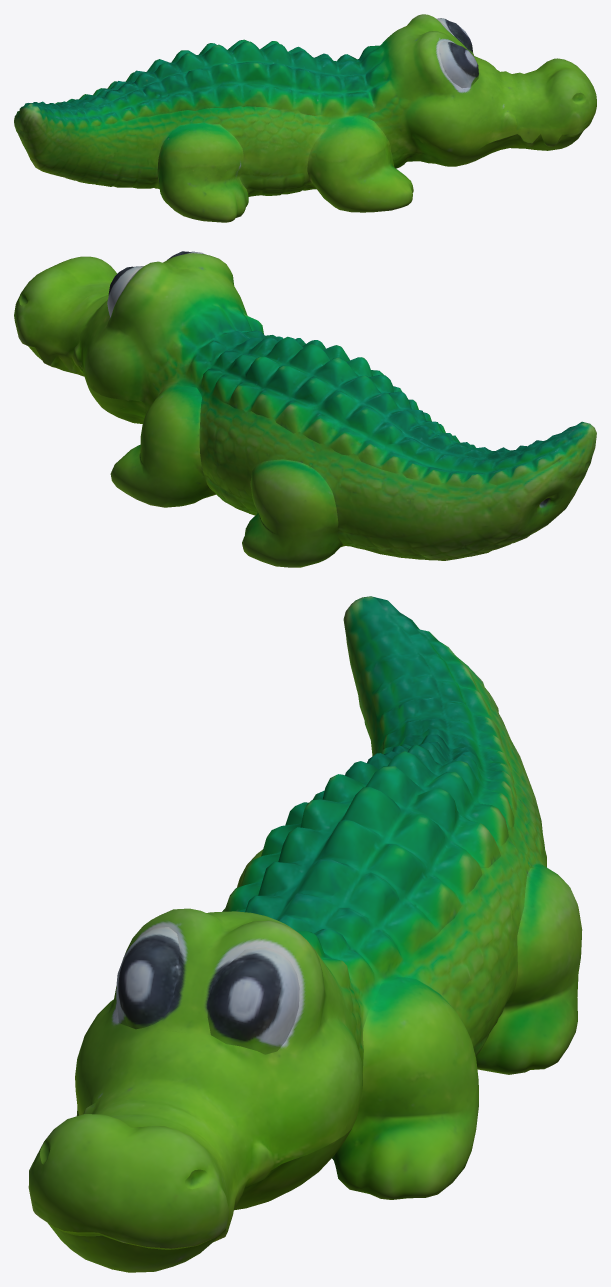
3 renders of one model, top to bottom at view 1: azimuth 30°, elevation 25°; view 2: azimuth 150°, elevation 25°; view 3: azimuth 270°, elevation 25°, orthographic. The views are drawn at different scales.
Visible parts, largest first — view 1: RENDER_00; view 2: RENDER_00; view 3: RENDER_00.
Boxes of the visible parts, <box> form: RENDER_00: <box>14,14,596,222</box>; RENDER_00: <box>14,251,596,567</box>; RENDER_00: <box>28,596,582,1272</box>.
Size of the model in its own units: 1 by 0.2707 by 0.4689.
Materials: 1 (1 with a texture image).
